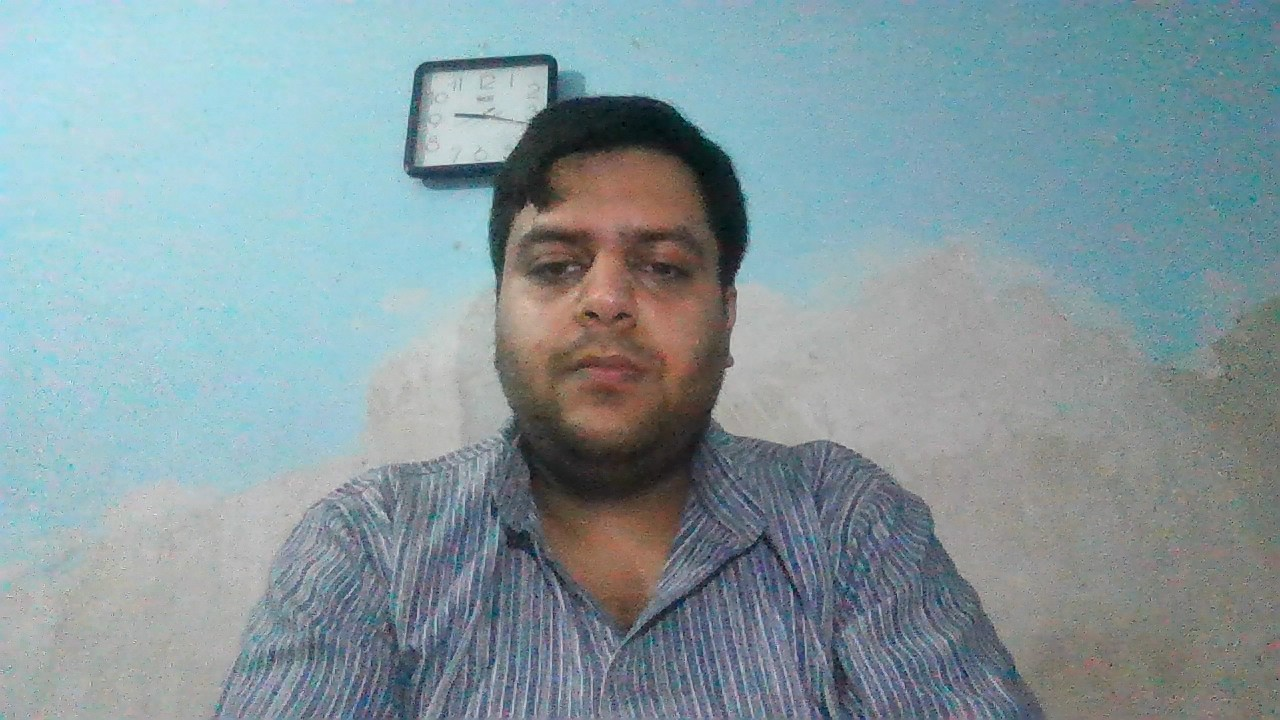No Mask: (494, 288, 736, 448)
